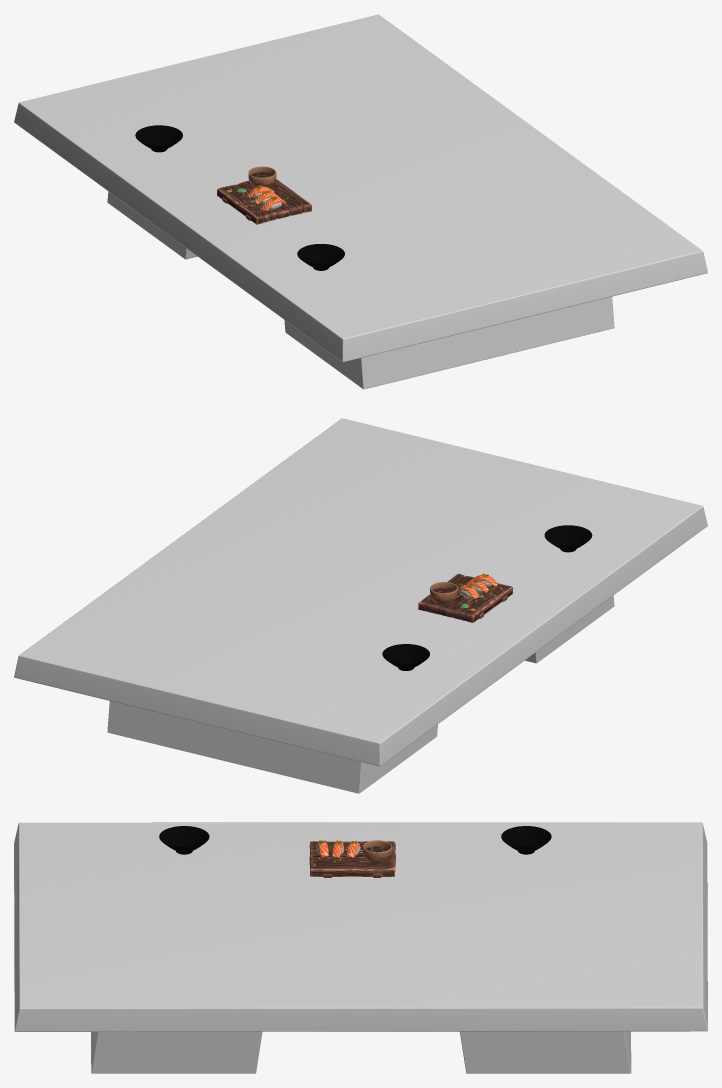
File: Mesa.fbx
3 renders of one model, top to bottom at view 1: azimuth 30°, elevation 25°; view 2: azimuth 150°, elevation 25°; view 3: azimuth 270°, elevation 25°, orthographic. The views are drawn at different scales.
Visible parts, largest first — view 1: Japanese Style Wooden Table, table_1_low.002, Japanese plate.001, Japanese plate; view 2: Japanese Style Wooden Table, table_1_low.002, Japanese plate, Japanese plate.001; view 3: Japanese Style Wooden Table, table_1_low.002, Japanese plate, Japanese plate.001.
Boxes of the visible parts, bbox=[...] form: Japanese Style Wooden Table: bbox=[14, 14, 707, 389]; table_1_low.002: bbox=[217, 166, 311, 224]; Japanese plate.001: bbox=[135, 125, 182, 152]; Japanese plate: bbox=[297, 244, 344, 270]; Japanese Style Wooden Table: bbox=[14, 418, 707, 793]; table_1_low.002: bbox=[418, 573, 512, 622]; Japanese plate: bbox=[544, 525, 592, 552]; Japanese plate.001: bbox=[382, 644, 429, 670]; Japanese Style Wooden Table: bbox=[14, 822, 707, 1073]; table_1_low.002: bbox=[309, 840, 395, 877]; Japanese plate: bbox=[159, 826, 209, 854]; Japanese plate.001: bbox=[501, 826, 551, 854].
Size of the model in its own units: 3.47 by 0.9911 by 5.38.
Materials: 4 (2 with a texture image).
